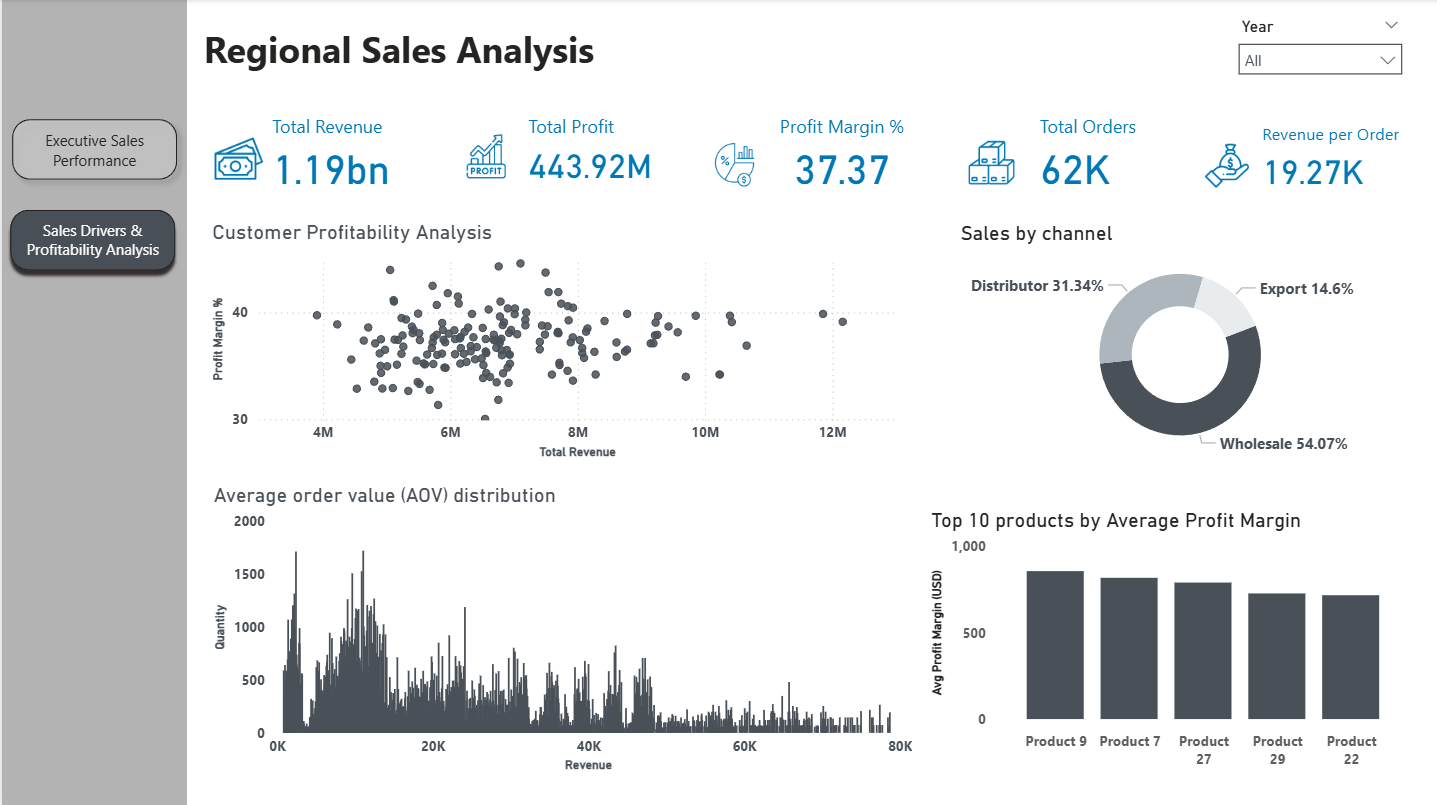

Layout of this report page (visuals, bound fields, positions):
{"tool":"powerbi","page":{"name":"Sales Drivers & Profitability Analysis","canvas":[1280,720],"ordinal":1},"visuals":[{"type":"shape","box":[0,0,164.8,720.2],"z":0},{"type":"textbox","box":[174.6,17.3,451.6,67.8],"z":1000},{"type":"cardVisual","fields":{"Data":["Sales.Total Revenue"]},"box":[223.3,84.7,157.1,90.8],"z":2000},{"type":"cardVisual","fields":{"Data":["Sales.Total Profit"]},"box":[451.5,84.7,154.6,90.8],"z":3000},{"type":"cardVisual","fields":{"Data":["Sales.Profit Margin %"]},"box":[673.6,84.7,149.7,90.8],"z":4000},{"type":"cardVisual","fields":{"Data":["Sales.Total Orders"]},"box":[906.8,84.7,130.1,90.8],"z":5000},{"type":"cardVisual","fields":{"Data":["Sales.Revenue per Order"]},"box":[1105.5,92,159.5,90.8],"z":6000},{"type":"pageNavigator","box":[0,98.2,165.6,154.6],"z":11000},{"type":"image","box":[184.1,115.3,54,52.8],"z":12000},{"type":"image","box":[400,115.3,62.6,49.1],"z":13000},{"type":"image","box":[625.8,122.7,54,50.3],"z":14000},{"type":"image","box":[856.4,115.3,50.3,60.1],"z":15000},{"type":"image","box":[1066.3,122.7,49.1,52.8],"z":16000},{"type":"scatterChart","title":"Customer Profitability Analysis","fields":{"Category":["Sales.customer_names"],"X":["Sales.Total Revenue"],"Y":["Sales.Profit Margin %"]},"box":[182.8,197.5,631.9,217.2],"z":16001},{"type":"columnChart","title":"Average order value (AOV) distribution","fields":{"Category":["Sales.revenue"],"Y":["Sum(Sales.order_quantity)"]},"box":[184.1,430.7,631.9,262.6],"z":16002},{"type":"donutChart","title":"Sales by channel ","fields":{"Category":["Sales.channel"],"Y":["Sum(Sales.revenue)"]},"box":[833.8,197.6,430.9,216.7],"z":16003},{"type":"columnChart","title":"Top 10 products by Average Profit Margin","fields":{"Y":["Sales.Avg Profit Margin (USD)"],"Category":["Sales.product_name"]},"box":[822.3,453.3,437.2,239.4],"z":16004},{"type":"slicer","fields":{"Values":["Sales.order_month.Variation.Date Hierarchy.Year","Sales.order_month.Variation.Date Hierarchy.Month"]},"box":[1090.8,11,165.6,73.6],"z":16005}]}

Visuals, with their boxes on the page's 1280x720 design canvas (x1, y1, x2, y2). These are canvas units, not pixel positions in the 1437x805 screenshot, which may show the page scaled, cropped or inside an application window:
shape: Rect(0, 0, 165, 720)
textbox: Rect(175, 17, 626, 85)
cardVisual - Sales.Total Revenue: Rect(223, 85, 380, 176)
cardVisual - Sales.Total Profit: Rect(452, 85, 606, 176)
cardVisual - Sales.Profit Margin %: Rect(674, 85, 823, 176)
cardVisual - Sales.Total Orders: Rect(907, 85, 1037, 176)
cardVisual - Sales.Revenue per Order: Rect(1106, 92, 1265, 183)
pageNavigator: Rect(0, 98, 166, 253)
image: Rect(184, 115, 238, 168)
image: Rect(400, 115, 463, 164)
image: Rect(626, 123, 680, 173)
image: Rect(856, 115, 907, 175)
image: Rect(1066, 123, 1115, 176)
"Customer Profitability Analysis" scatterChart: Rect(183, 198, 815, 415)
"Average order value (AOV) distribution" columnChart: Rect(184, 431, 816, 693)
"Sales by channel " donutChart: Rect(834, 198, 1265, 414)
"Top 10 products by Average Profit Margin" columnChart: Rect(822, 453, 1260, 693)
slicer - Sales.order_month.Variation.Date Hierarchy.Year x Sales.order_month.Variation.Date Hierarchy.Month: Rect(1091, 11, 1256, 85)
